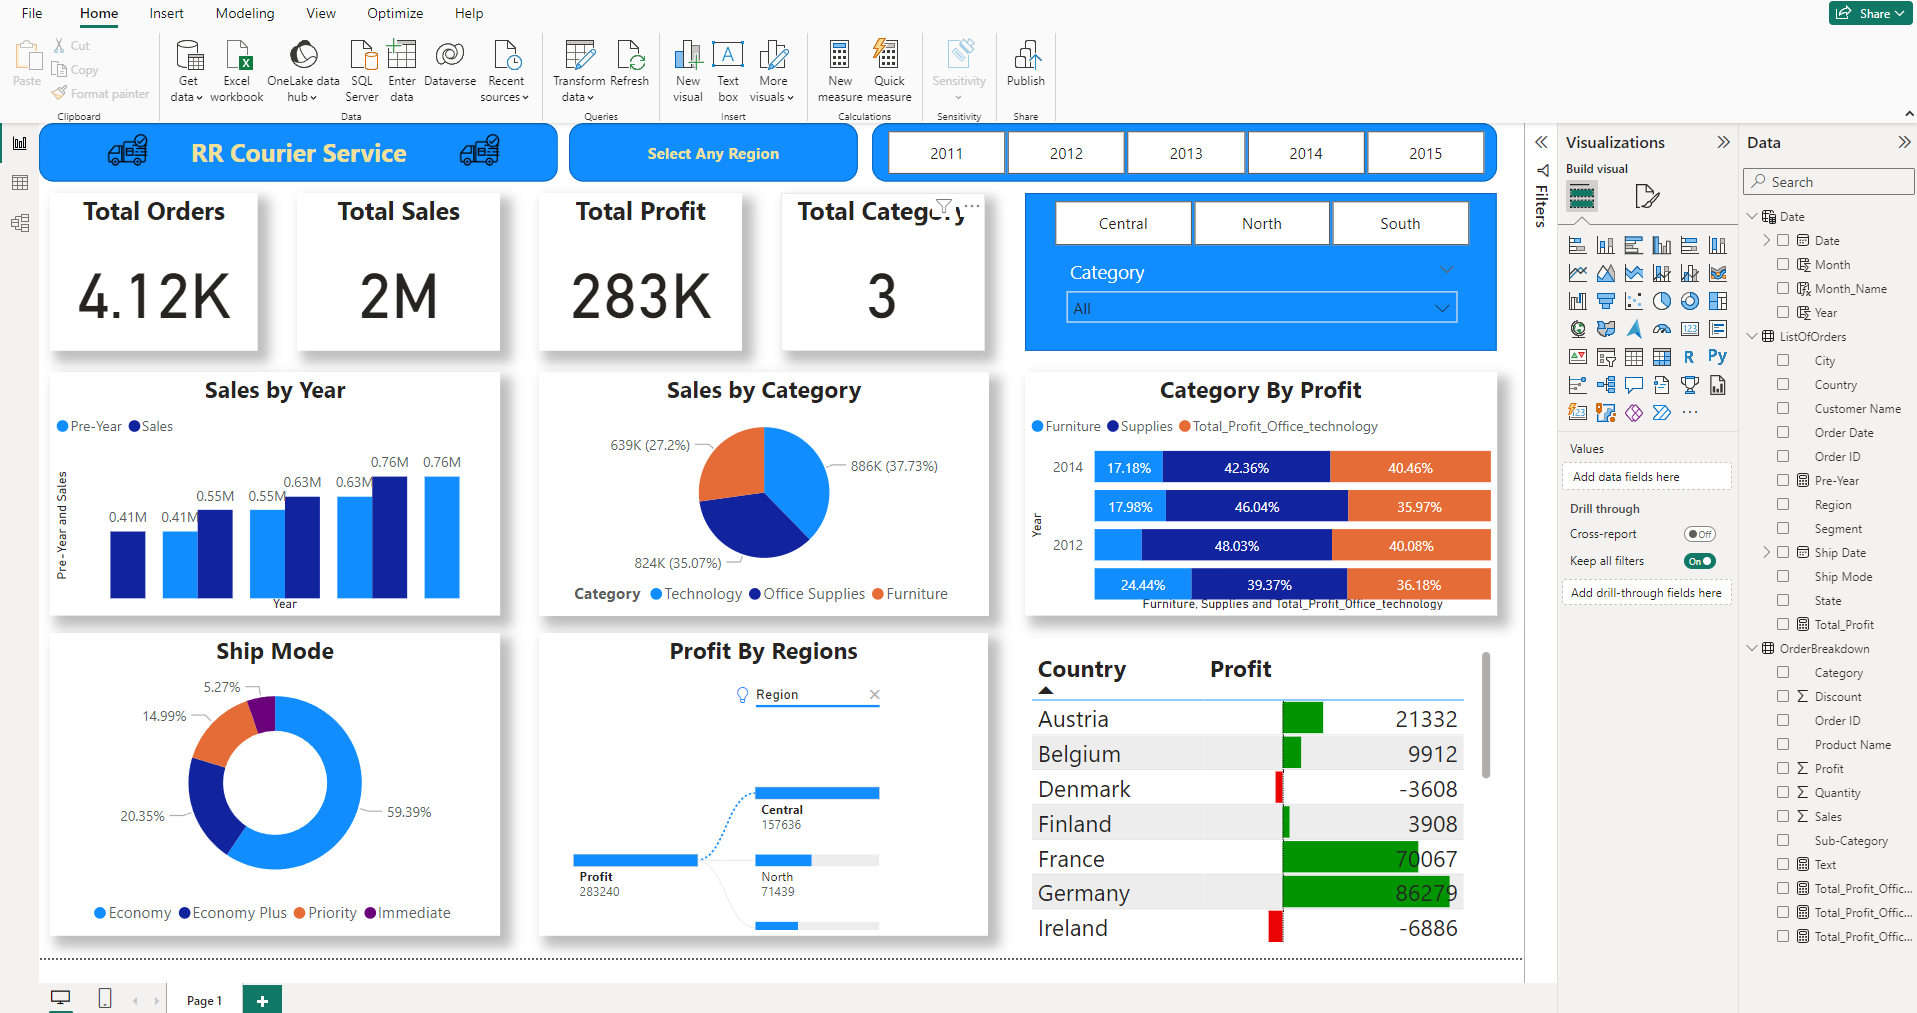

The page's visual inventory and layout, read from the dashboard file:
{"tool":"powerbi","page":{"name":"Page 1","canvas":[1280,720],"ordinal":0},"visuals":[{"type":"shape","box":[0,0,447.4,50.6],"z":0},{"type":"shape","box":[457.1,0,249,50.6],"z":1000},{"type":"shape","box":[717.8,0,538.8,50.6],"z":2000},{"type":"image","box":[9.7,0,134.2,45.7],"z":3000},{"type":"image","box":[313.2,0,134.2,45.7],"z":4000},{"type":"slicer","fields":{"Values":["Date.Date.Variation.Date Hierarchy.Year"]},"box":[706.1,0,564.1,50.6],"z":5000},{"type":"card","title":"Total Orders","fields":{"Values":["Count(OrderBreakdown.Order ID)"]},"box":[9.7,60.3,179,136.2],"z":6000},{"type":"card","title":"Total Sales","fields":{"Values":["Sum(OrderBreakdown.Sales)"]},"box":[222.4,60.3,175.1,136.2],"z":7000},{"type":"card","title":"Total Profit","fields":{"Values":["ListOfOrders.Total_Profit"]},"box":[431.2,60.3,175.1,136.2],"z":8000},{"type":"card","title":"Total Category","fields":{"Values":["Count(OrderBreakdown.Category)"]},"box":[640,60.3,175.1,136.2],"z":9000},{"type":"shape","box":[850.1,60.3,406.6,136.2],"z":10000},{"type":"slicer","fields":{"Values":["ListOfOrders.Region"]},"box":[850.1,60.3,406.6,51.6],"z":11000},{"type":"slicer","fields":{"Values":["OrderBreakdown.Category"]},"box":[875.4,111.9,357,74.9],"z":12000},{"type":"clusteredColumnChart","title":"Sales by Year","fields":{"Y":["ListOfOrders.Pre-Year","Sum(OrderBreakdown.Sales)"],"Category":["Date.Date.Variation.Date Hierarchy.Year"]},"box":[9.7,215,388.1,210.1],"z":13000},{"type":"pieChart","fields":{"Y":["Sum(OrderBreakdown.Sales)"],"Category":["OrderBreakdown.Category"]},"box":[430.9,215,388.1,210.1],"z":14000},{"type":"hundredPercentStackedBarChart","title":"Category By Profit","fields":{"Y":["OrderBreakdown.Total_Profit_Office_Furniture","OrderBreakdown.Total_Profit_Office_Sup","OrderBreakdown.Total_Profit_Office_tech"],"Category":["Date.Date.Variation.Date Hierarchy.Year"]},"box":[850.1,215,406.6,210.1],"z":15000},{"type":"donutChart","title":"Ship Mode","fields":{"Category":["ListOfOrders.Ship Mode"],"Y":["Count(ListOfOrders.Order ID)"]},"box":[9.7,439.6,388.1,260.7],"z":16000},{"type":"decompositionTreeVisual","title":"Profit By Regions","fields":{"Analyze":["Sum(OrderBreakdown.Profit)"],"ExplainBy":["ListOfOrders.Region"]},"box":[430.9,439.6,387.1,260.7],"z":17000},{"type":"tableEx","fields":{"Values":["ListOfOrders.Country","Sum(OrderBreakdown.Profit)"]},"box":[850.1,450.3,406.6,261.6],"z":18000}]}

Visuals, with their boxes on the page's 1280x720 design canvas (x1, y1, x2, y2). These are canvas units, not pixel positions in the 1917x1013 screenshot, which may show the page scaled, cropped or inside an application window:
shape: box=[0, 0, 447, 51]
shape: box=[457, 0, 706, 51]
shape: box=[718, 0, 1257, 51]
image: box=[10, 0, 144, 46]
image: box=[313, 0, 447, 46]
slicer - Date.Date.Variation.Date Hierarchy.Year: box=[706, 0, 1270, 51]
"Total Orders" card: box=[10, 60, 189, 196]
"Total Sales" card: box=[222, 60, 398, 196]
"Total Profit" card: box=[431, 60, 606, 196]
"Total Category" card: box=[640, 60, 815, 196]
shape: box=[850, 60, 1257, 196]
slicer - ListOfOrders.Region: box=[850, 60, 1257, 112]
slicer - OrderBreakdown.Category: box=[875, 112, 1232, 187]
"Sales by Year" clusteredColumnChart: box=[10, 215, 398, 425]
pieChart - Sum(OrderBreakdown.Sales) x OrderBreakdown.Category: box=[431, 215, 819, 425]
"Category By Profit" hundredPercentStackedBarChart: box=[850, 215, 1257, 425]
"Ship Mode" donutChart: box=[10, 440, 398, 700]
"Profit By Regions" decompositionTreeVisual: box=[431, 440, 818, 700]
tableEx - ListOfOrders.Country x Sum(OrderBreakdown.Profit): box=[850, 450, 1257, 712]
